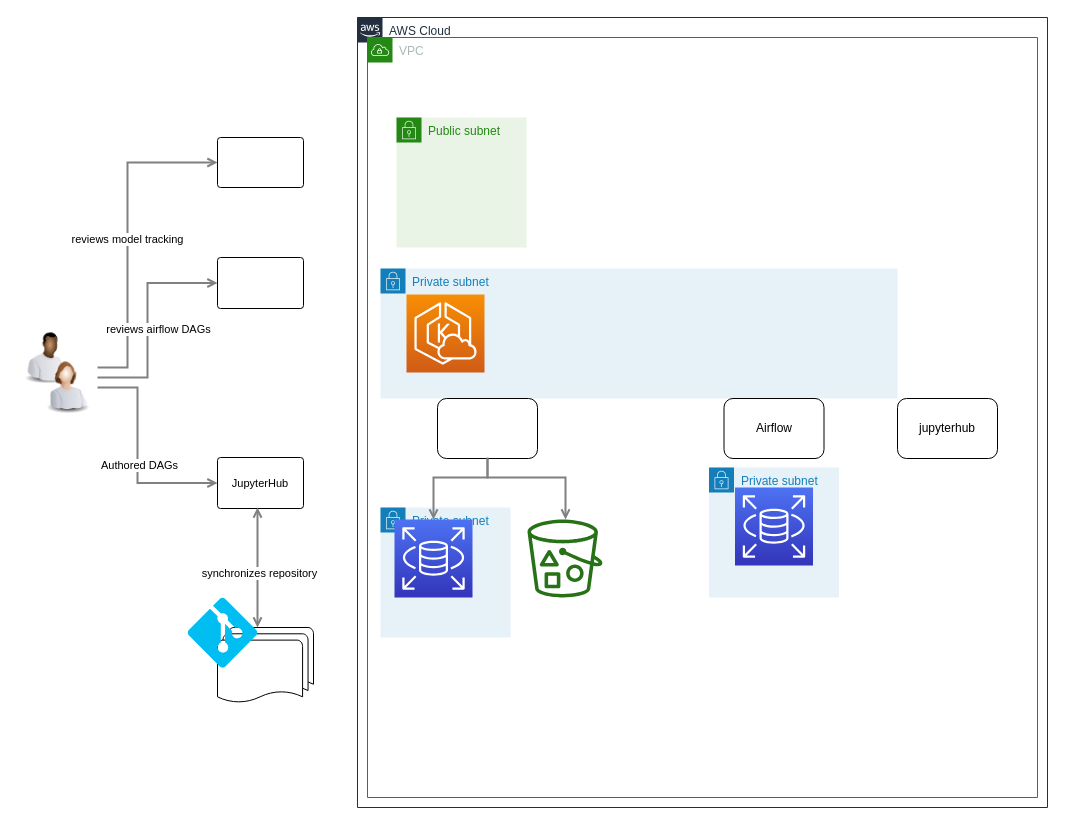
The diagram is 1065 pixels wide and 825 high, and some of its shapes have lost their labels. The shapes that lost their labels are listed below. From the top down, each one's box as (x1, y1, x2, y2) in pixels, then its label:
(216, 136, 304, 188): MLflow UI
(216, 256, 304, 308): Airflow UI
(436, 398, 538, 458): mlflow
(527, 519, 602, 597): Amazon S3 Bucket
(216, 626, 314, 704): DAGs
